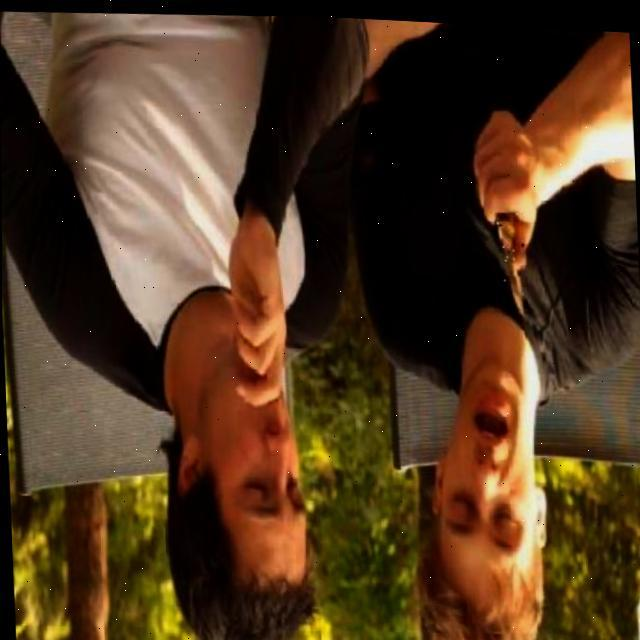knife: (494, 206, 526, 310)
